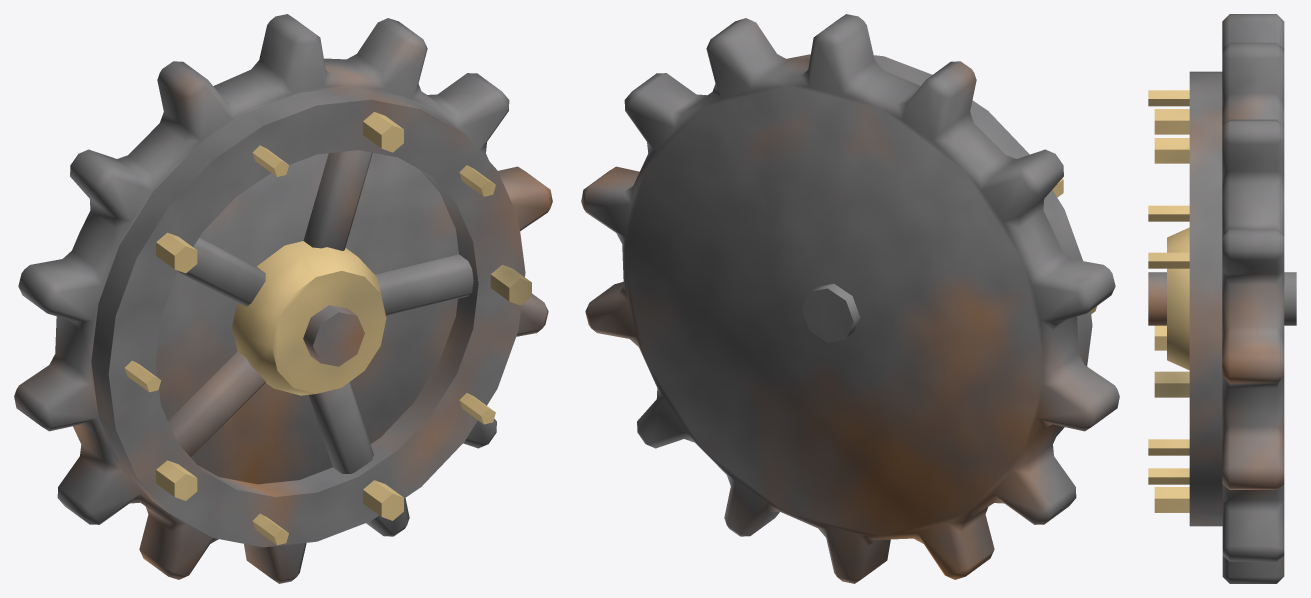
The model's file is gear.gltf.
3 views of the same model, side by side, from view 1: azimuth 30°, elevation 25°; view 2: azimuth 150°, elevation 25°; view 3: azimuth 270°, elevation 25° (orthographic). The views are drawn at different scales.
Visible parts, largest first — view 1: gear; view 2: gear; view 3: gear.
Part boxes in pixels (box(x1,y1,x2,y2)): gear: box(14, 14, 552, 583); gear: box(581, 14, 1119, 583); gear: box(1148, 14, 1296, 583).
Size of the model in its own units: 1.18 by 1.2 by 0.312.
Materials: 1 (1 with a texture image).
